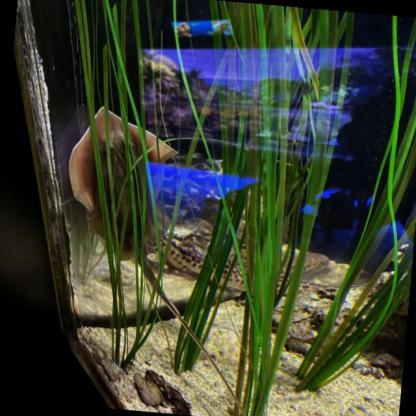stingray: (60, 103, 182, 264)
